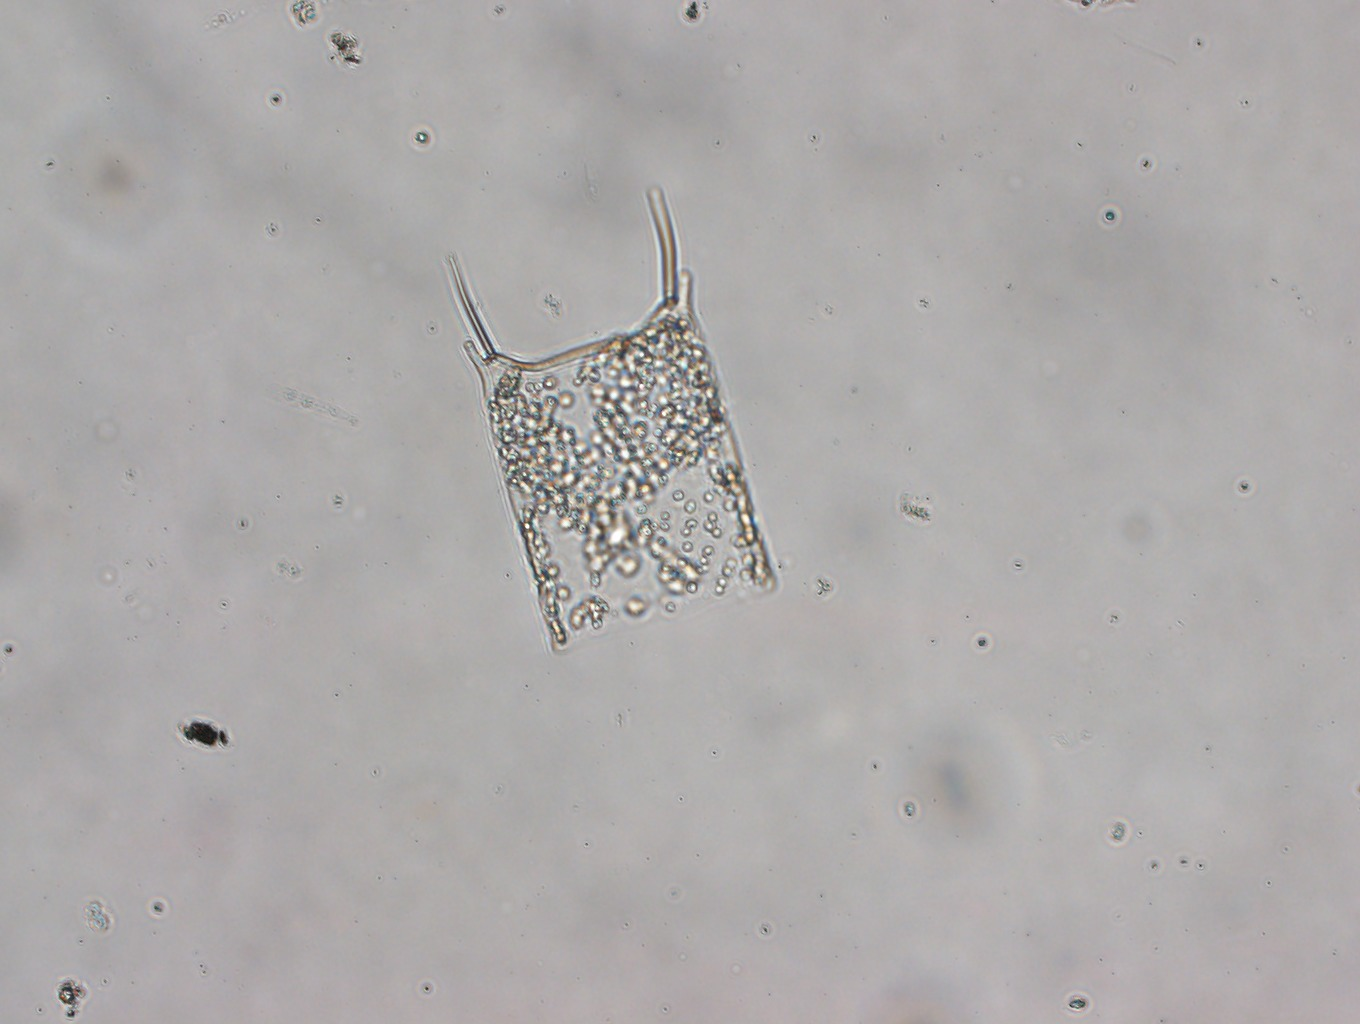biddulphia: (446, 185, 783, 656)
